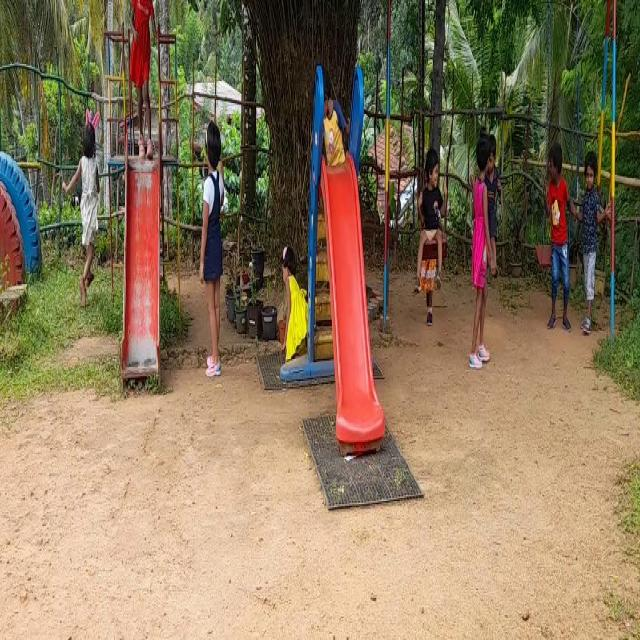child: (194, 102, 228, 385), (71, 85, 99, 308), (546, 131, 570, 329), (471, 126, 490, 370), (580, 132, 601, 343), (131, 0, 155, 155), (422, 125, 442, 292)
